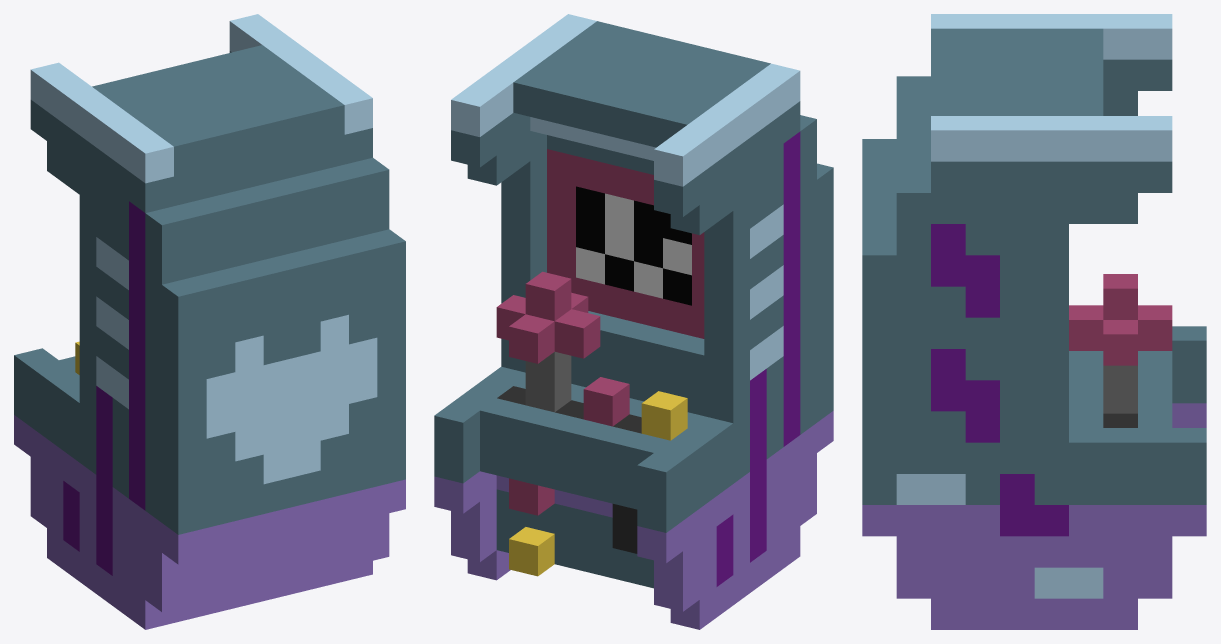
The model's file is fliperama.obj.
3 views of the same model, side by side, from view 1: azimuth 30°, elevation 25°; view 2: azimuth 150°, elevation 25°; view 3: azimuth 270°, elevation 25° (orthographic). The views are drawn at different scales.
Size of the model in its own units: 0.8 by 1.6 by 1.
1 material, 1 textured.
